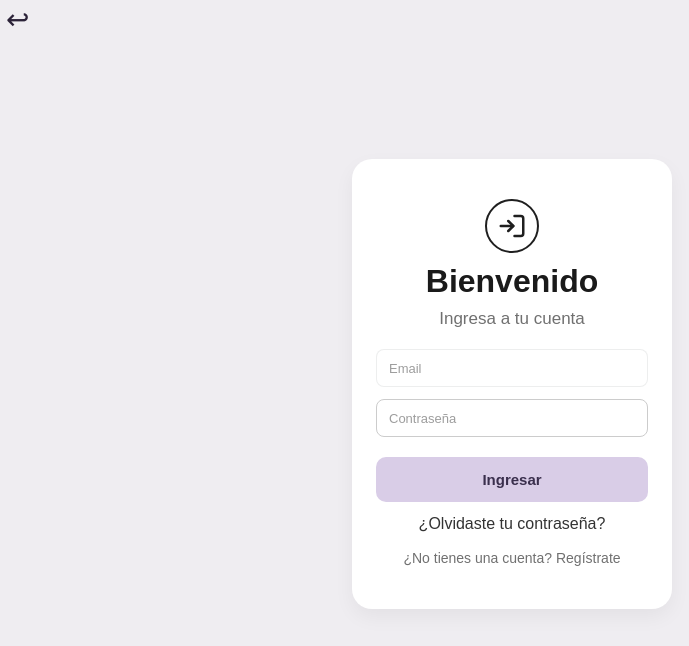
Test case: Login valida campos vacios
Click the button "Ingresar" at {"x": 512, "y": 480}, box [376,457,648,502]
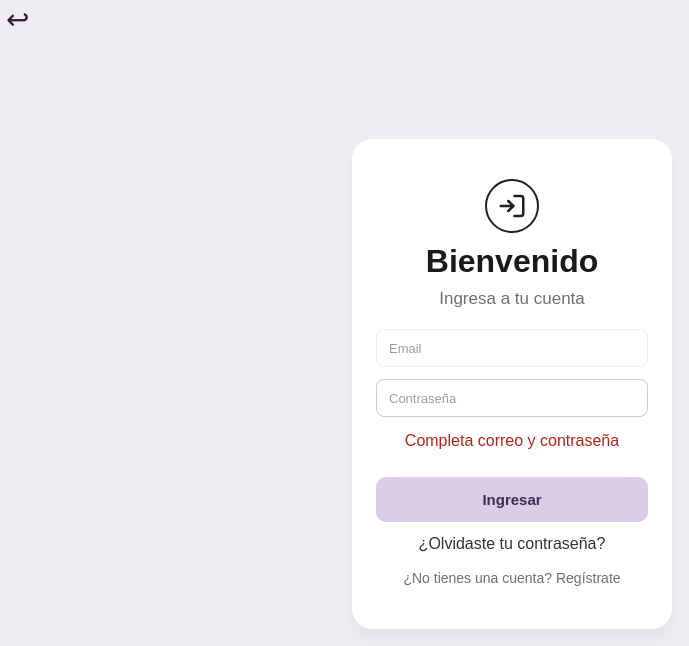
Check: the text "Completa correo y contraseña" is shown, box [405,432,619,449]
